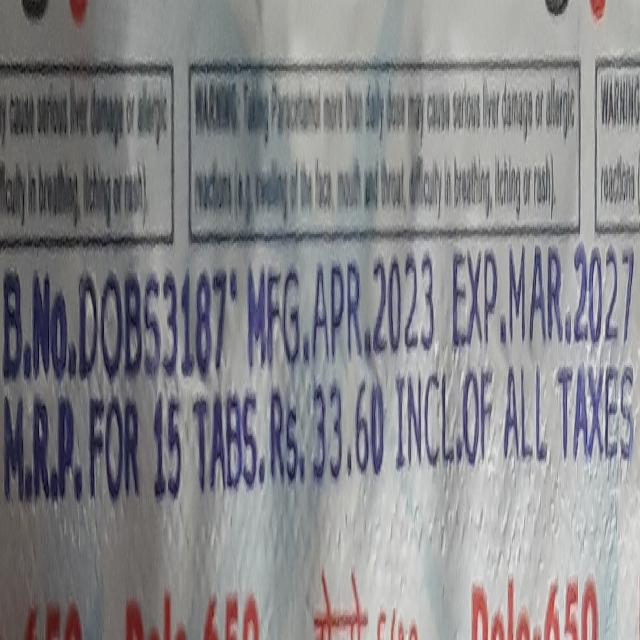sentence: (0, 324, 634, 508), (0, 239, 640, 392)
